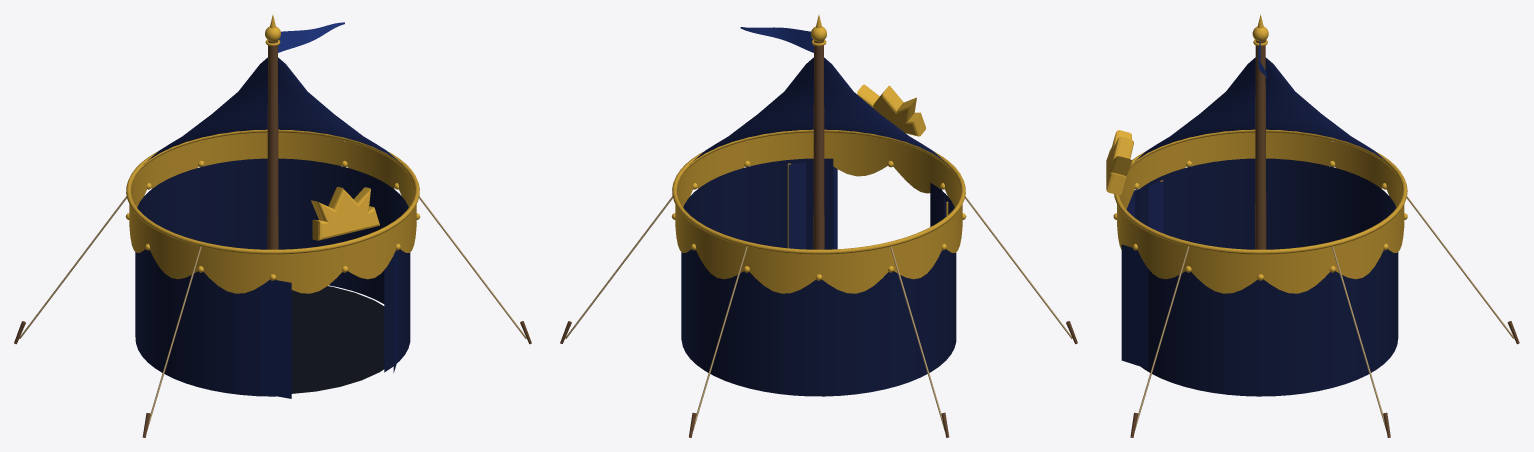
Rendered from royal_pavilion_tent.glb.
The picture shows the model from 3 angles, left to right: view 1: azimuth 30°, elevation 25°; view 2: azimuth 150°, elevation 25°; view 3: azimuth 270°, elevation 25°; orthographic projection.
Visible parts, largest first — view 1: canvas_wall, golden_scalloped_valance, interior_floor, conical_canopy, door_flap_left, eave_gold_piping, royal_crown_crest, central_wooden_pole, royal_blue_pennant, door_flap_right; view 2: canvas_wall, golden_scalloped_valance, conical_canopy, eave_gold_piping, central_wooden_pole, door_flap_right, royal_crown_crest, royal_blue_pennant; view 3: canvas_wall, golden_scalloped_valance, conical_canopy, door_flap_right, eave_gold_piping, central_wooden_pole, royal_crown_crest, door_flap_left, guy_rope_0, guy_rope_5, guy_rope_4.
Part boxes in pixels (x1,y1,x2,y2): canvas_wall: (135,158,410,396); golden_scalloped_valance: (129,132,416,293); interior_floor: (291,286,384,393); conical_canopy: (143,57,402,164); door_flap_left: (260,279,291,398); eave_gold_piping: (126,129,419,254); royal_crown_crest: (311,186,379,240); central_wooden_pole: (267,40,278,249); royal_blue_pennant: (278,22,344,52); door_flap_right: (393,250,397,372); canvas_wall: (681,158,956,396); golden_scalloped_valance: (675,132,962,293); conical_canopy: (689,57,948,164); eave_gold_piping: (672,129,965,254); central_wooden_pole: (813,40,824,249); door_flap_right: (788,161,837,249); royal_crown_crest: (857,84,925,136); royal_blue_pennant: (740,27,813,52); canvas_wall: (1135,158,1398,396); golden_scalloped_valance: (1117,132,1404,293); conical_canopy: (1131,57,1389,164); door_flap_right: (1121,244,1148,368); eave_gold_piping: (1114,129,1407,254); central_wooden_pole: (1255,40,1266,249); royal_crown_crest: (1106,130,1133,195); door_flap_left: (1126,181,1163,233); guy_rope_0: (1135,246,1189,430); guy_rope_5: (1332,246,1386,430); guy_rope_4: (1406,196,1514,338).
Size of the model in its own units: 2.87 by 2.33 by 2.64.
